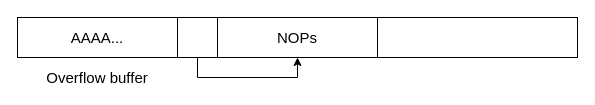
Some shapes in this 595 by 105 pixel diagram are drawn without their labels. The shapes that lost their labels are listed below. From the top down, each one's box as (x1, y1, x2, y2) in pixels, then its label:
(176, 16, 218, 58): RIP
(376, 16, 578, 58): Attacker-Controlled Code
